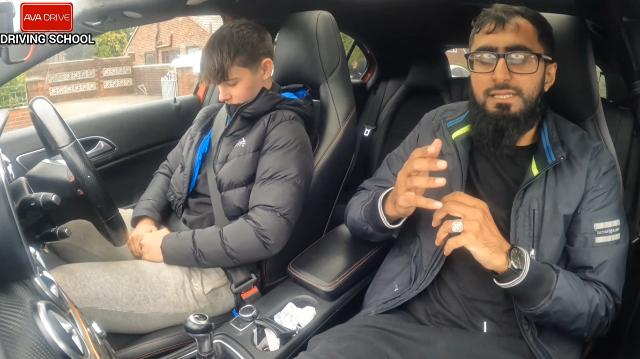no seatbelt: (400, 92, 604, 324)
seatbelt: (125, 75, 321, 273)
